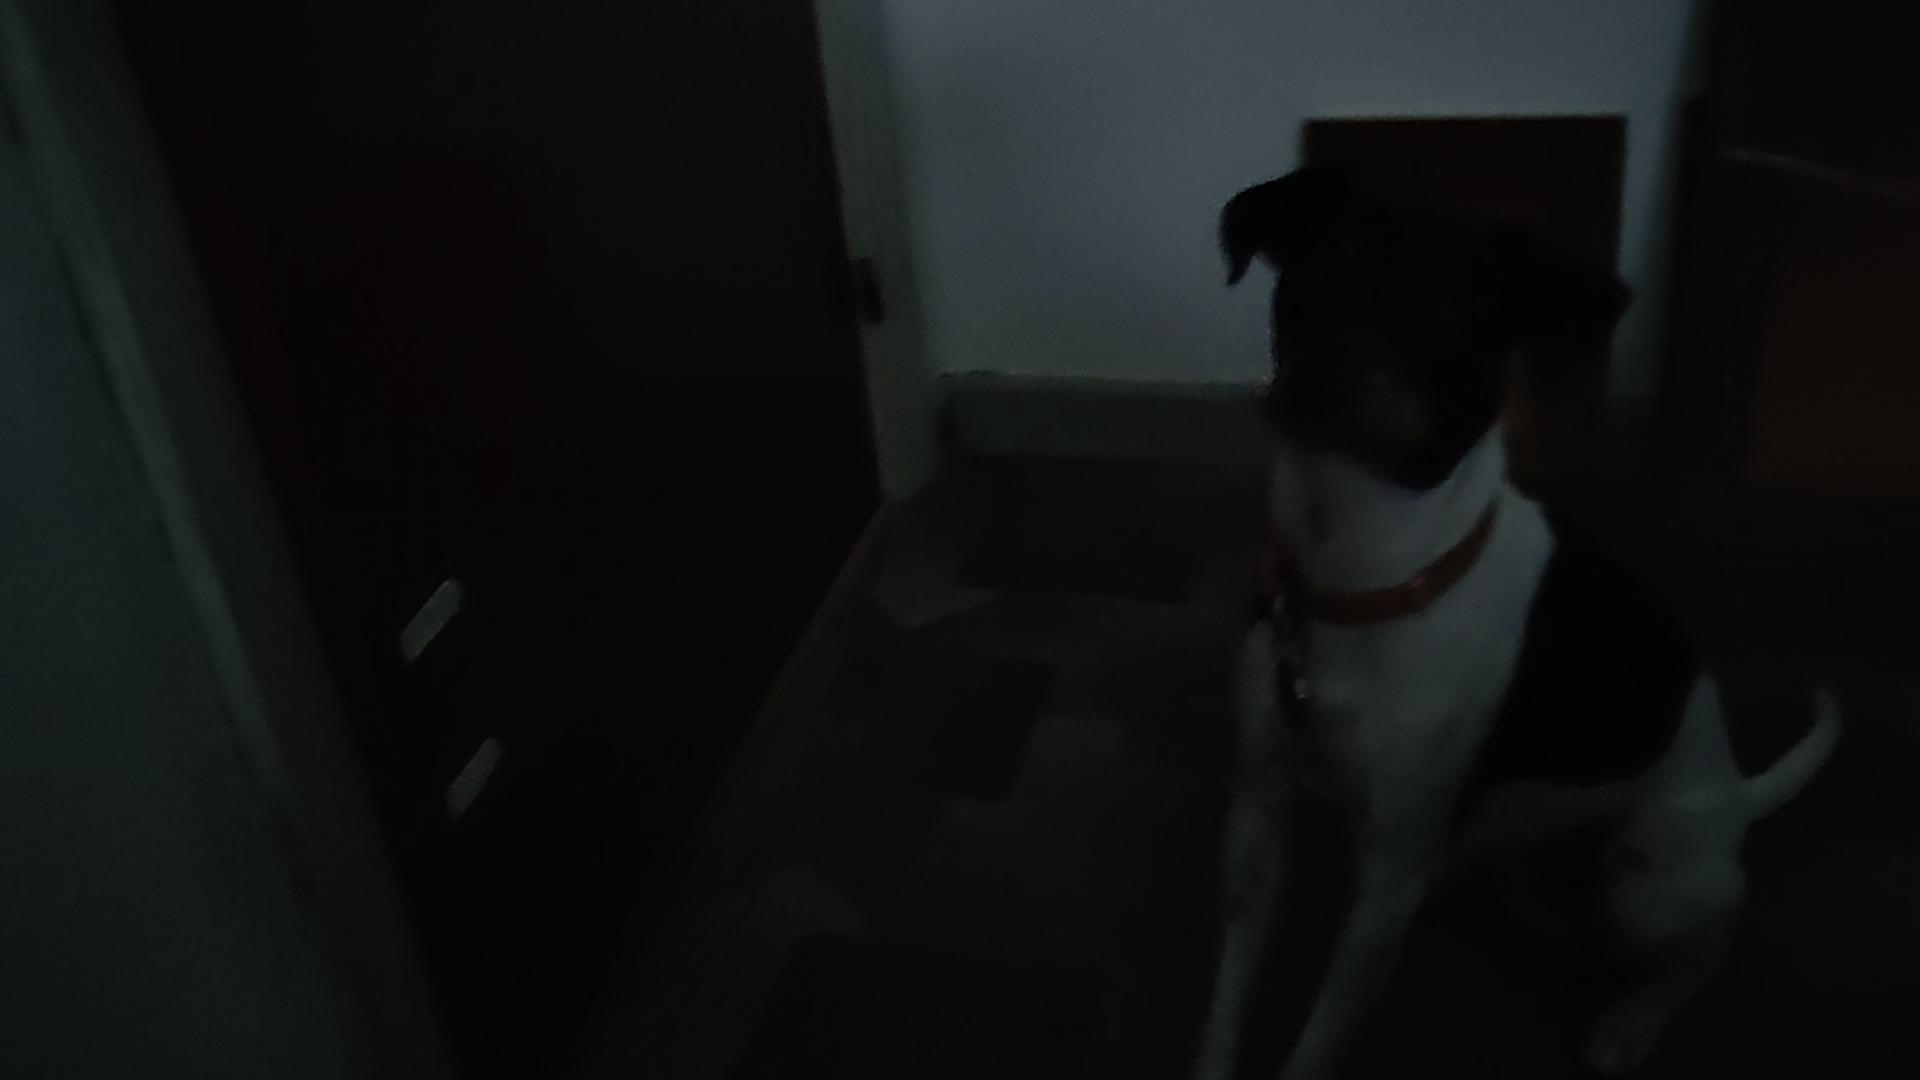Dog: (1174, 142, 1859, 1079)
